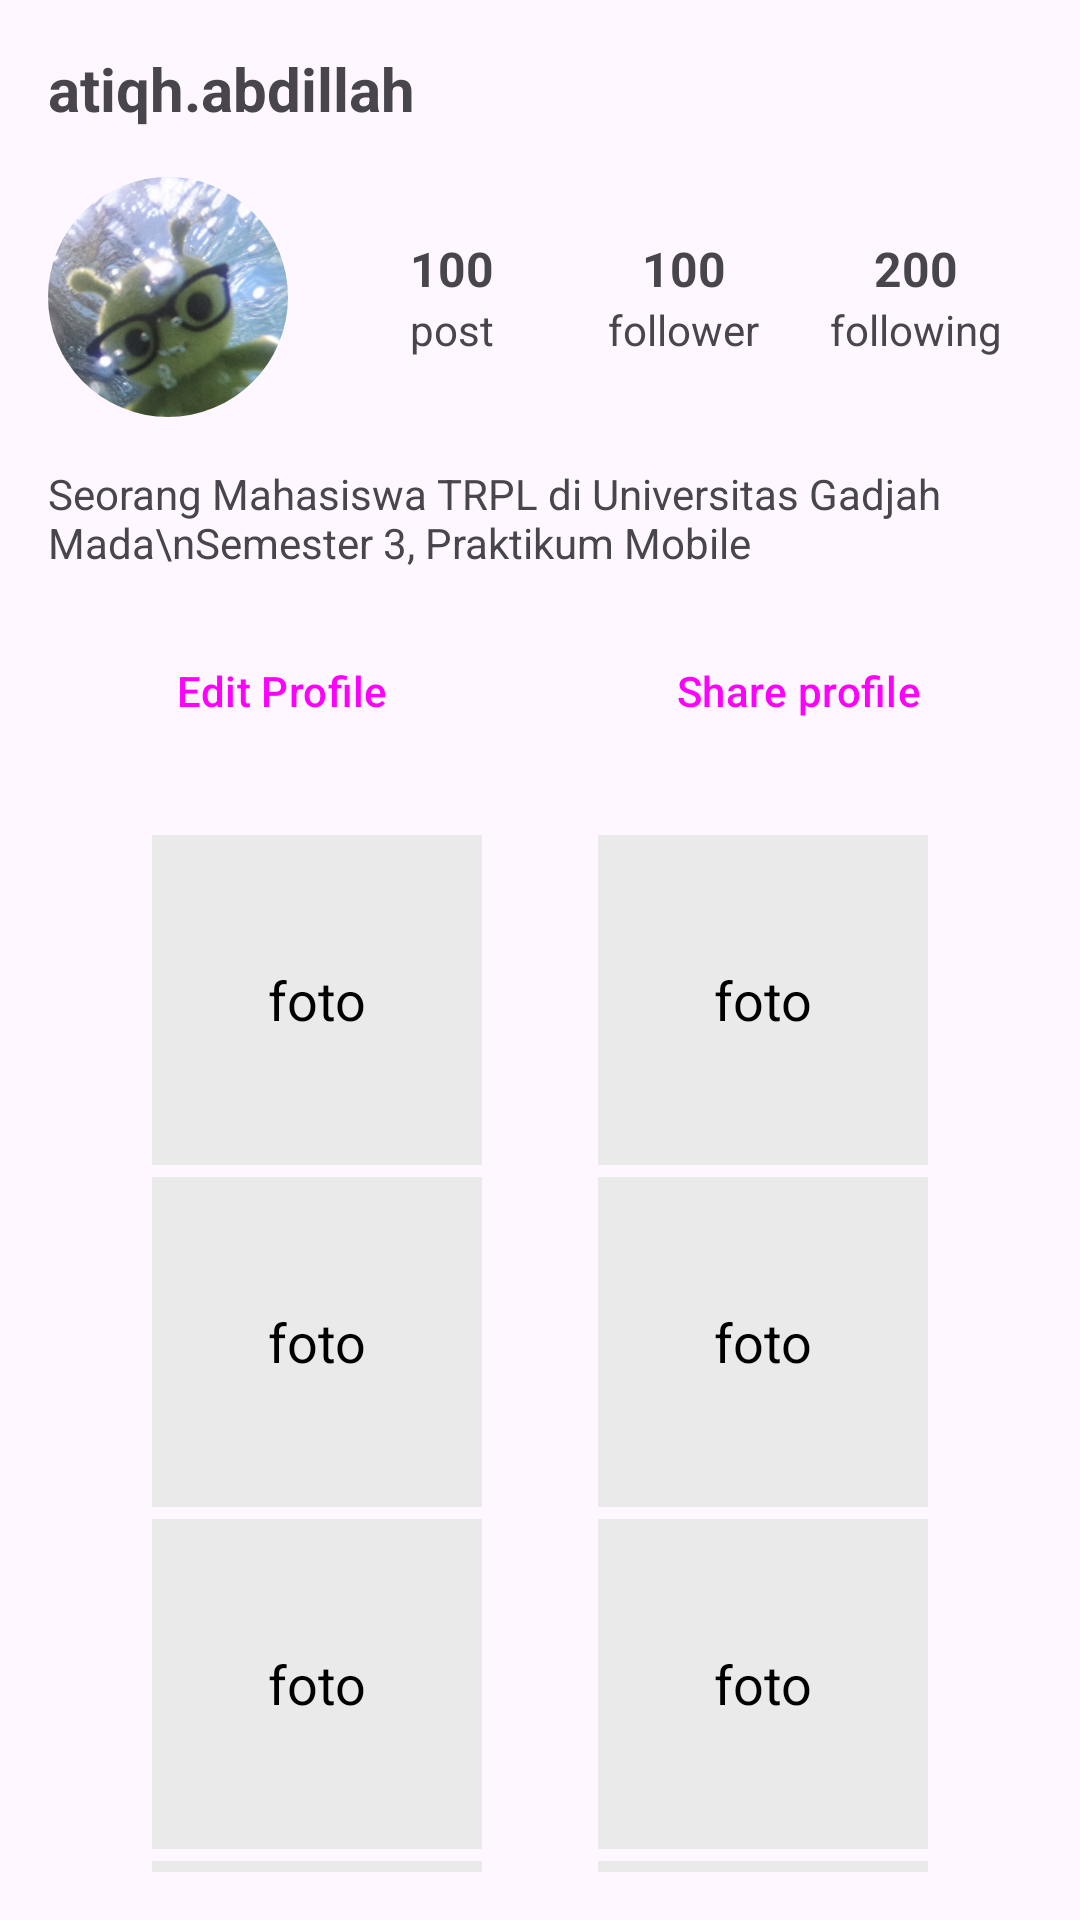

Icon click points for this 1080w x 1920h phone screenshot, format point (x, y):
photo profile: point (168, 297)
